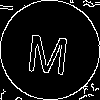M: (25, 25, 72, 75)
